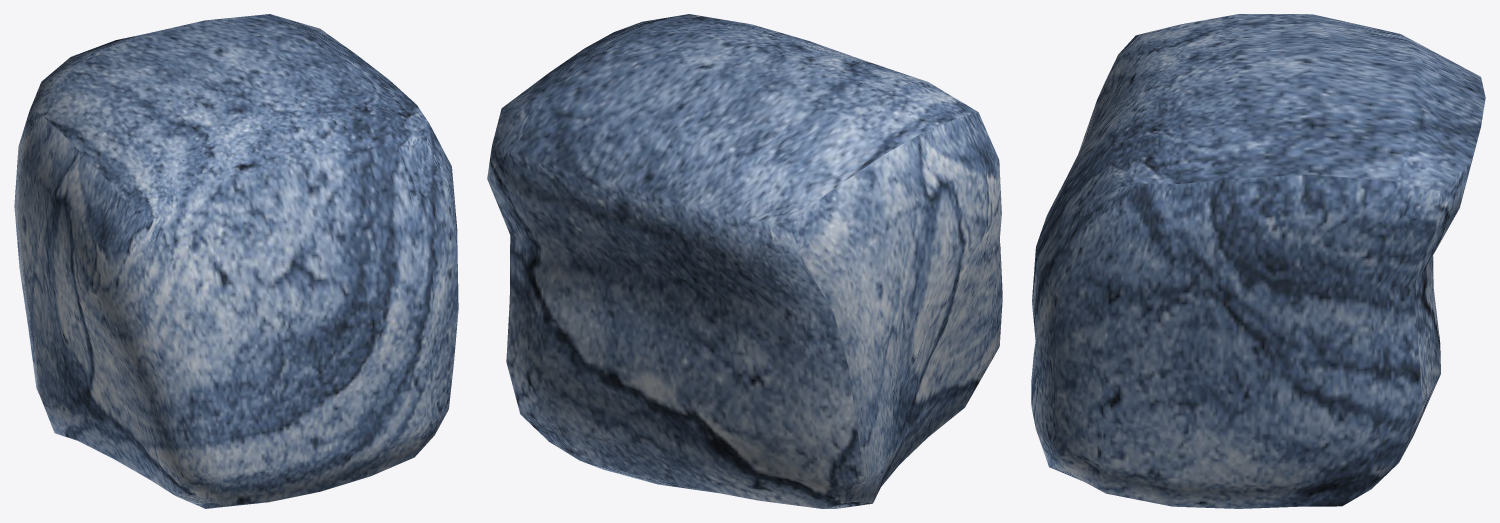
The model's file is rock2.fbx.
The picture shows the model from 3 angles, left to right: view 1: azimuth 30°, elevation 25°; view 2: azimuth 150°, elevation 25°; view 3: azimuth 270°, elevation 25°; orthographic projection. The views are drawn at different scales.
Parts seen in each view (by area): view 1: pCube3; view 2: pCube3; view 3: pCube3.
Part boxes in pixels (left/top/right/bottom): pCube3: left=14, top=14, right=458, bottom=508; pCube3: left=487, top=14, right=1002, bottom=508; pCube3: left=1031, top=14, right=1485, bottom=508.
Size of the model in its own units: 1.11 by 1.14 by 1.15.
Materials: 1 (1 with a texture image).
